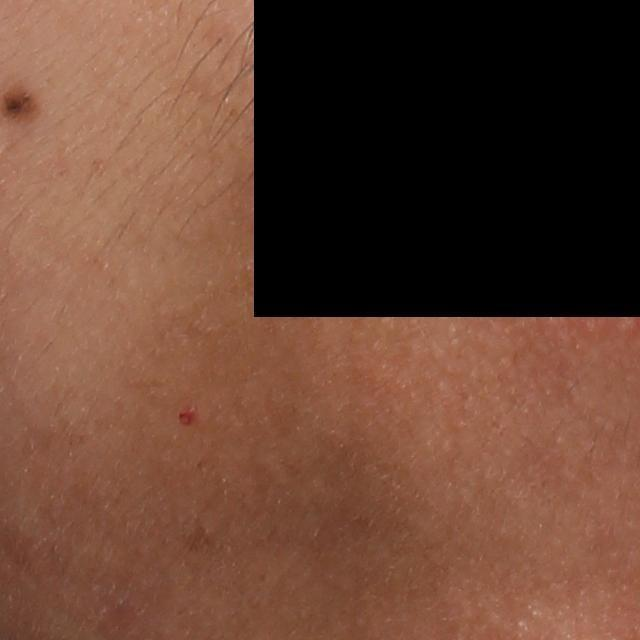other: (175, 403, 198, 428)
